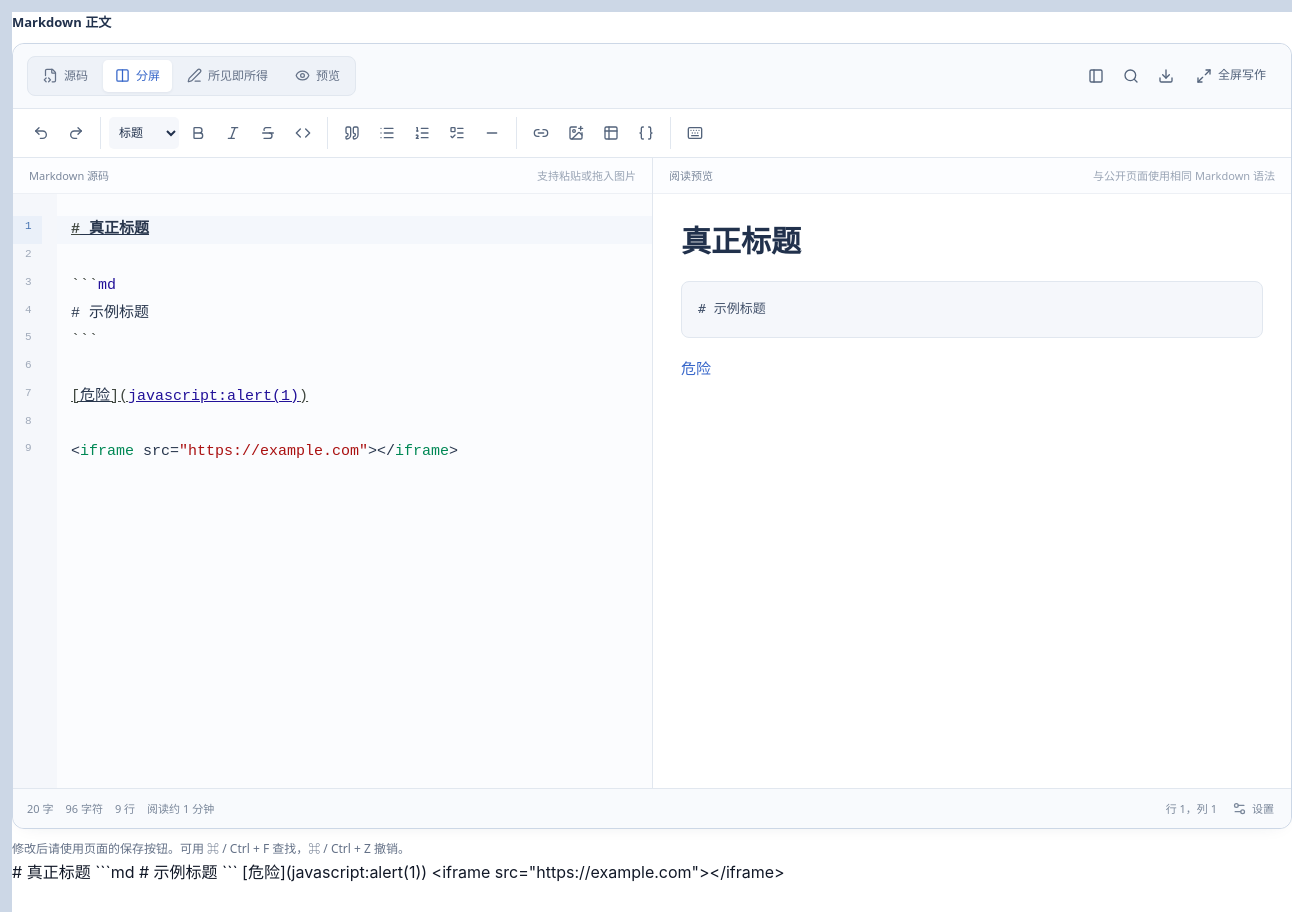
it: Markdown writing workspace › renders a safe preview and keeps code-fence headings out of the outline
Click the button named "文档目录" at point(1096, 76), box [1080,60,1112,92]
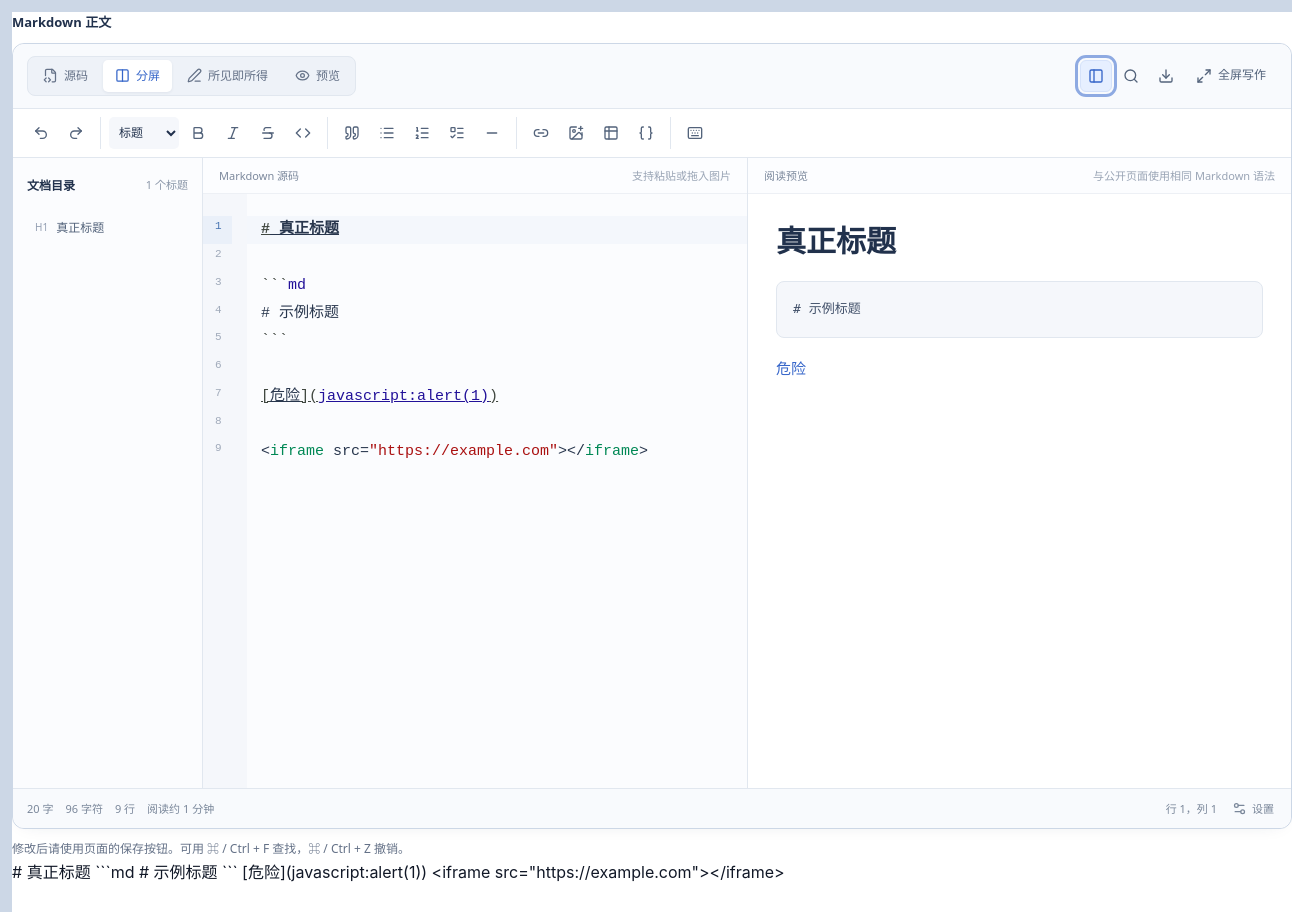
Expected: the button "H1 真正标题" is shown, [21,211,194,245]
